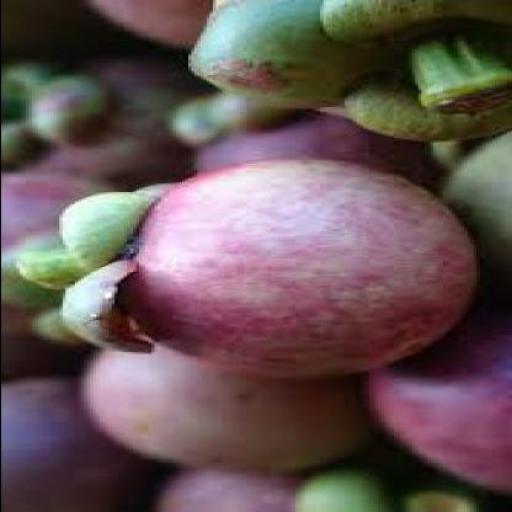biodegradable: (9, 153, 478, 371), (181, 0, 508, 138), (80, 344, 380, 472), (361, 299, 509, 494), (1, 43, 191, 182), (1, 372, 138, 510), (0, 159, 98, 348), (435, 117, 509, 311), (147, 470, 466, 510), (76, 0, 212, 52)
